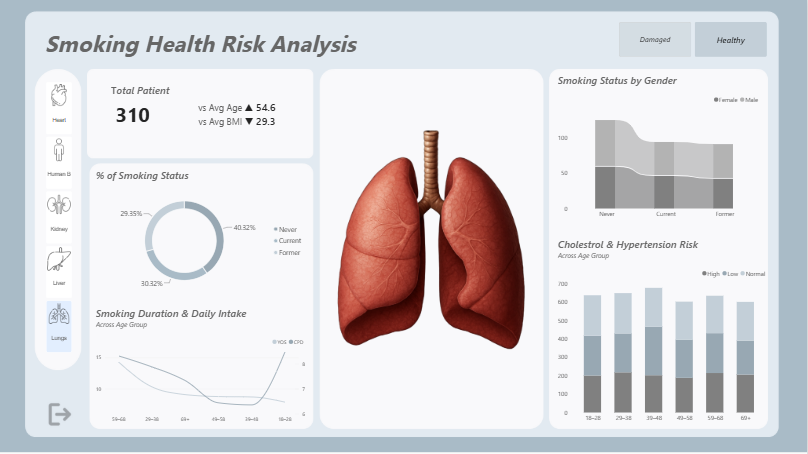

Layout of this report page (visuals, bound fields, positions):
{"tool":"powerbi","page":{"name":"Smoking Health Risk Analysis","canvas":[1920,1080],"ordinal":0},"visuals":[{"type":"cardVisual","fields":{"Data":["CountNonNull(health_dataset.Patient_ID)"]},"box":[228.6,178.6,497.6,185.7],"z":0},{"type":"textbox","box":[264.3,178.6,283.3,114.3],"z":1000},{"type":"advancedSlicerVisual","fields":{"Values":["condition.Organ_Condition"]},"box":[1473.8,52.4,352.4,83.3],"z":2000},{"type":"ChicletSlicer1448559807354","fields":{"Category":["Organs.Organ"],"Image":["Organs.Icon_URL"]},"box":[90.5,178.6,100,690.5],"z":3000},{"type":"image","box":[764.3,178.6,528.6,831],"z":4000},{"type":"donutChart","title":"% of Smoking Status","fields":{"Category":["health_dataset.Smoking_Status"],"Y":["CountNonNull(health_dataset.Smoking_Status)"]},"box":[211.9,385.7,531,328.6],"z":5000},{"type":"lineChart","title":"Smoking Duration & Daily Intake","fields":{"Category":["health_dataset.Age Group"],"Y":["Avg(health_dataset.Years_of_Smoking)"],"Y2":["Avg(health_dataset.Cigarettes_Per_Day)"]},"box":[211.9,714.3,531,311.9],"z":6000},{"type":"ribbonChart","title":"Smoking Status by Gender","fields":{"Category":["health_dataset.Smoking_Status"],"Series":["health_dataset.Gender"],"Y":["CountNonNull(health_dataset.Patient_ID)"]},"box":[1311.9,159.5,514.3,381],"z":6001},{"type":"columnChart","title":"Cholestrol & Hypertension Risk","fields":{"Category":["health_dataset.Age Group"],"Series":["health_dataset.BP_Risk"],"Y":["Avg(health_dataset.Cholesterol_Level)"]},"box":[1311.9,550,531,476.2],"z":6002},{"type":"textbox","box":[107.1,66.7,819,92.9],"z":6003}]}

Visuals, with their boxes in screenshot pixels (x1, y1, x2, y2), scaled from the page's 1920x1080 canvas onto the 808x454 screenshot:
cardVisual - CountNonNull(health_dataset.Patient_ID): {"left": 96, "top": 75, "right": 306, "bottom": 153}
textbox: {"left": 111, "top": 75, "right": 230, "bottom": 123}
advancedSlicerVisual - condition.Organ_Condition: {"left": 620, "top": 22, "right": 769, "bottom": 57}
ChicletSlicer1448559807354 - Organs.Organ x Organs.Icon_URL: {"left": 38, "top": 75, "right": 80, "bottom": 365}
image: {"left": 322, "top": 75, "right": 544, "bottom": 424}
"% of Smoking Status" donutChart: {"left": 89, "top": 162, "right": 313, "bottom": 300}
"Smoking Duration & Daily Intake" lineChart: {"left": 89, "top": 300, "right": 313, "bottom": 431}
"Smoking Status by Gender" ribbonChart: {"left": 552, "top": 67, "right": 769, "bottom": 227}
"Cholestrol & Hypertension Risk" columnChart: {"left": 552, "top": 231, "right": 776, "bottom": 431}
textbox: {"left": 45, "top": 28, "right": 390, "bottom": 67}
